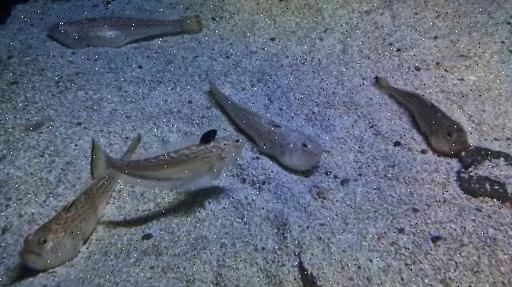Fish: (210, 81, 323, 171), (20, 174, 119, 271), (91, 131, 245, 188), (377, 76, 470, 157), (49, 15, 201, 49), (299, 255, 314, 286), (200, 130, 217, 144)
